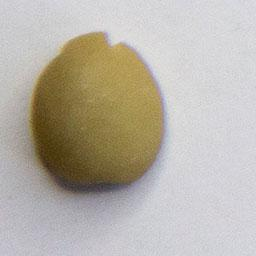defect: (23, 25, 173, 197)
